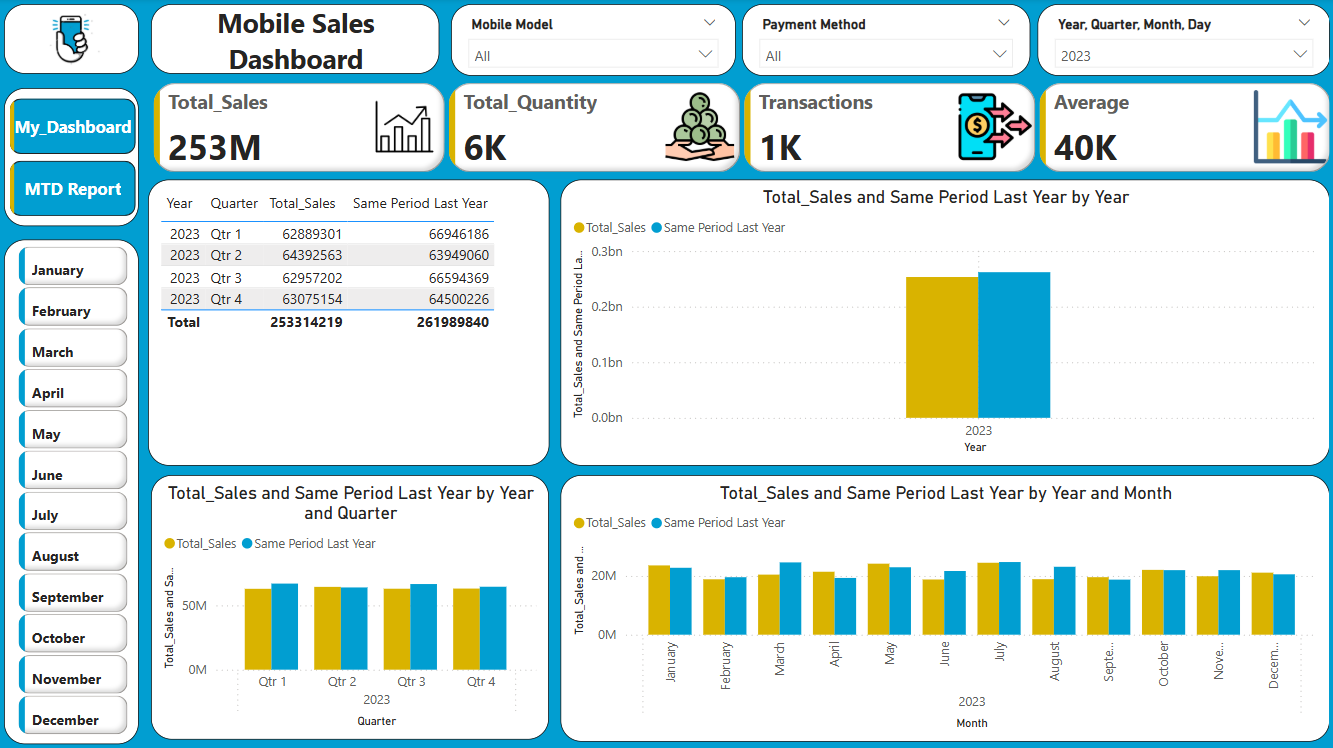

This screenshot's page, from the dashboard's own definition file:
{"tool":"powerbi","page":{"name":"Same Period Last Year","canvas":[1280,720],"ordinal":2},"visuals":[{"type":"shape","box":[6.4,6.4,128.8,66.8],"z":0},{"type":"cardVisual","fields":{"Data":["Sales_Data.Total_Sales","Sales_Data.Total_Quantity","Sales_Data.Transactions","Sales_Data.Average"]},"box":[143.2,76.3,1135.7,95.4],"z":1000},{"type":"slicer","fields":{"Values":["Sales_Data.Mobile Model"]},"box":[432.6,6.4,272,68.4],"z":2000},{"type":"slicer","fields":{"Values":["Sales_Data.Payment Method"]},"box":[711,6.4,275.2,68.4],"z":3000},{"type":"slicer","fields":{"Values":["Custom_Calendar.Date.Variation.Date Hierarchy.Year","Custom_Calendar.Date.Variation.Date Hierarchy.Quarter","Custom_Calendar.Date.Variation.Date Hierarchy.Month","Custom_Calendar.Date.Variation.Date Hierarchy.Day"]},"box":[992.5,6.4,279.9,68.4],"z":4000},{"type":"image","box":[12.7,4.8,112.9,73.2],"z":5000},{"type":"shape","title":"Mobile Sales Dashboard","box":[146.3,6.4,275.2,66.8],"z":6000},{"type":"tableEx","fields":{"Values":["Custom_Calendar.Date.Variation.Date Hierarchy.Year","Custom_Calendar.Date.Variation.Date Hierarchy.Quarter","Sales_Data.Total_Sales","Sales_Data.Same Period Last Year"]},"box":[143.2,173.4,383.3,273.6],"z":7000},{"type":"clusteredColumnChart","fields":{"Y":["Sales_Data.Total_Sales","Sales_Data.Same Period Last Year"],"Category":["Custom_Calendar.Date.Variation.Date Hierarchy.Year","Custom_Calendar.Date.Variation.Date Hierarchy.Quarter","Custom_Calendar.Date.Variation.Date Hierarchy.Month","Custom_Calendar.Date.Variation.Date Hierarchy.Day"]},"box":[537.6,173.4,734.9,273.6],"z":8000},{"type":"clusteredColumnChart","fields":{"Y":["Sales_Data.Total_Sales","Sales_Data.Same Period Last Year"],"Category":["Custom_Calendar.Date.Variation.Date Hierarchy.Year","Custom_Calendar.Date.Variation.Date Hierarchy.Month"]},"box":[537.6,454.9,734.9,254.5],"z":9000},{"type":"clusteredColumnChart","fields":{"Y":["Sales_Data.Total_Sales","Sales_Data.Same Period Last Year"],"Category":["Custom_Calendar.Date.Variation.Date Hierarchy.Year","Custom_Calendar.Date.Variation.Date Hierarchy.Quarter","Custom_Calendar.Date.Variation.Date Hierarchy.Month","Custom_Calendar.Date.Variation.Date Hierarchy.Day"]},"box":[146.3,454.9,380.2,252.9],"z":10000},{"type":"shape","box":[6.4,230.6,128.8,482],"z":11000},{"type":"advancedSlicerVisual","fields":{"Values":["Custom_Calendar.Date.Variation.Date Hierarchy.Month"]},"box":[14.3,232.2,114.5,482],"z":12000},{"type":"shape","box":[6.4,85.9,128.8,132],"z":13000},{"type":"pageNavigator","box":[11.1,95.4,120.9,112.9],"z":14000}]}

Visuals, with their boxes in screenshot pixels (x1, y1, x2, y2), scaled from the page's 1280x720 canvas onto the 1333x748 screenshot:
shape: pyautogui.locateOnScreen(7, 7, 141, 76)
cardVisual - Sales_Data.Total_Sales x Sales_Data.Total_Quantity: pyautogui.locateOnScreen(149, 79, 1332, 178)
slicer - Sales_Data.Mobile Model: pyautogui.locateOnScreen(451, 7, 734, 78)
slicer - Sales_Data.Payment Method: pyautogui.locateOnScreen(740, 7, 1027, 78)
slicer - Custom_Calendar.Date.Variation.Date Hierarchy.Year x Custom_Calendar.Date.Variation.Date Hierarchy.Quarter: pyautogui.locateOnScreen(1034, 7, 1325, 78)
image: pyautogui.locateOnScreen(13, 5, 131, 81)
"Mobile Sales Dashboard" shape: pyautogui.locateOnScreen(152, 7, 439, 76)
tableEx - Custom_Calendar.Date.Variation.Date Hierarchy.Year x Custom_Calendar.Date.Variation.Date Hierarchy.Quarter: pyautogui.locateOnScreen(149, 180, 548, 464)
clusteredColumnChart - Sales_Data.Total_Sales x Sales_Data.Same Period Last Year: pyautogui.locateOnScreen(560, 180, 1325, 464)
clusteredColumnChart - Sales_Data.Total_Sales x Sales_Data.Same Period Last Year: pyautogui.locateOnScreen(560, 473, 1325, 737)
clusteredColumnChart - Sales_Data.Total_Sales x Sales_Data.Same Period Last Year: pyautogui.locateOnScreen(152, 473, 548, 735)
shape: pyautogui.locateOnScreen(7, 240, 141, 740)
advancedSlicerVisual - Custom_Calendar.Date.Variation.Date Hierarchy.Month: pyautogui.locateOnScreen(15, 241, 134, 742)
shape: pyautogui.locateOnScreen(7, 89, 141, 226)
pageNavigator: pyautogui.locateOnScreen(12, 99, 137, 216)
